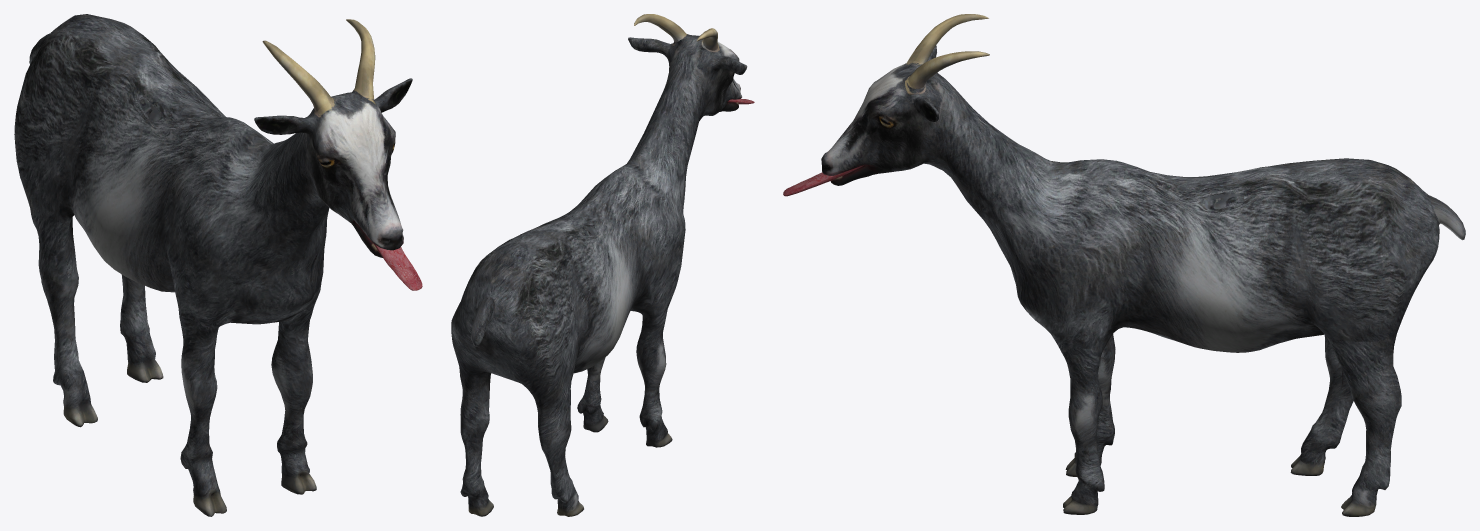
File: bode.glb
3 views of the same model, side by side, from view 1: azimuth 30°, elevation 25°; view 2: azimuth 150°, elevation 25°; view 3: azimuth 270°, elevation 25° (orthographic). The views are drawn at different scales.
Visible parts, largest first — view 1: goat; view 2: goat; view 3: goat.
Boxes of the visible parts, x1,y1,x2,y2 form: goat: [14, 14, 422, 516]; goat: [451, 14, 754, 516]; goat: [783, 14, 1465, 516].
Bounding box in the file's own units: 0.2993 × 0.918 × 1.23.
1 material, 1 textured.
